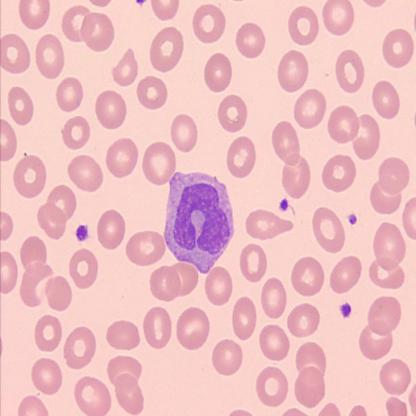Monocyte: (162, 169, 236, 275)
